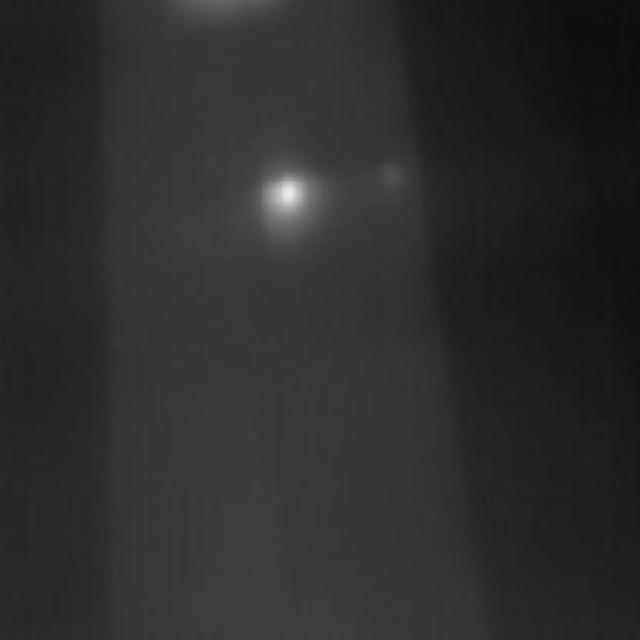hotspot: (252, 170, 316, 228)
